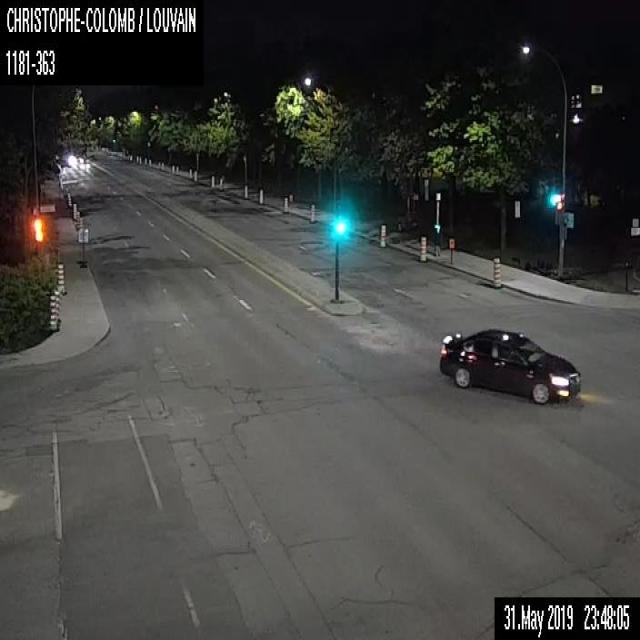construction: (77, 227, 89, 266), (48, 294, 58, 332), (492, 257, 502, 288), (57, 261, 66, 294), (52, 290, 60, 326), (419, 234, 427, 261), (378, 222, 386, 247), (56, 287, 61, 321), (448, 236, 454, 262), (282, 196, 288, 213), (72, 202, 77, 220), (258, 188, 263, 205), (243, 182, 248, 199), (75, 211, 80, 227), (310, 202, 314, 222), (218, 176, 223, 190), (67, 189, 71, 206), (210, 174, 214, 188), (188, 166, 192, 180), (193, 169, 197, 182), (171, 162, 175, 174), (175, 163, 179, 174), (78, 216, 82, 227)
vehicle: (437, 328, 582, 402)
